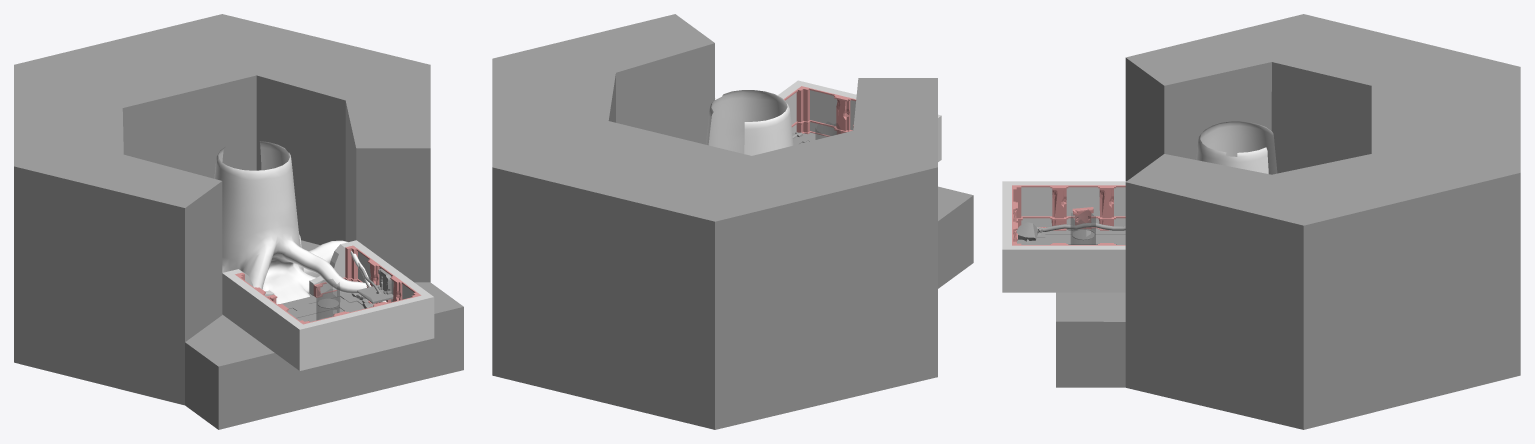
The model's file is salle_1_present02 (1).fbx.
3 renders of one model, left to right at view 1: azimuth 30°, elevation 25°; view 2: azimuth 150°, elevation 25°; view 3: azimuth 270°, elevation 25°, orthographic. The views are drawn at different scales.
Parts seen in each view (by area): view 1: pCylinder11, tree3, mur_angle32, mur_angle31, mur_porte_detruitA22, mur_angle42, mur_angle41, mur_porte_detruitA23, pCylinder9, sol_present3, mur_porte_detruitA24, sol_present6; view 2: pCylinder11, tree3, mur_angle31, mur_porte_detruitA22; view 3: pCylinder11, tree3, mur_angle31, mur_porte_detruitA24, mur_angle32, mur_porte_detruitA23, mur_angle42, mur_angle41, pCylinder9, sol_present4.
Part boxes in pixels (bbox=[...]): pCylinder11: bbox=[14, 14, 463, 429]; tree3: bbox=[214, 141, 366, 304]; mur_angle32: bbox=[272, 306, 347, 370]; mur_angle31: bbox=[379, 277, 434, 349]; mur_porte_detruitA22: bbox=[340, 303, 386, 359]; mur_angle42: bbox=[309, 240, 383, 303]; mur_angle41: bbox=[222, 269, 277, 333]; mur_porte_detruitA23: bbox=[249, 290, 284, 350]; pCylinder9: bbox=[316, 279, 340, 320]; sol_present3: bbox=[280, 296, 334, 320]; mur_porte_detruitA24: bbox=[371, 260, 406, 303]; sol_present6: bbox=[317, 291, 368, 312]; pCylinder11: bbox=[492, 14, 973, 429]; tree3: bbox=[706, 90, 793, 155]; mur_angle31: bbox=[777, 80, 848, 136]; mur_porte_detruitA22: bbox=[840, 93, 856, 133]; pCylinder11: bbox=[1056, 14, 1520, 429]; tree3: bbox=[1196, 121, 1277, 174]; mur_angle31: bbox=[1002, 225, 1059, 292]; mur_porte_detruitA24: bbox=[1059, 243, 1106, 292]; mur_angle32: bbox=[1002, 181, 1059, 236]; mur_porte_detruitA23: bbox=[1059, 181, 1106, 230]; mur_angle42: bbox=[1107, 243, 1125, 292]; mur_angle41: bbox=[1107, 181, 1126, 230]; pCylinder9: bbox=[1070, 209, 1095, 244]; sol_present4: bbox=[1059, 228, 1106, 244].
Bounding box in the file's own units: 52.69 × 23.86 × 54.52.
